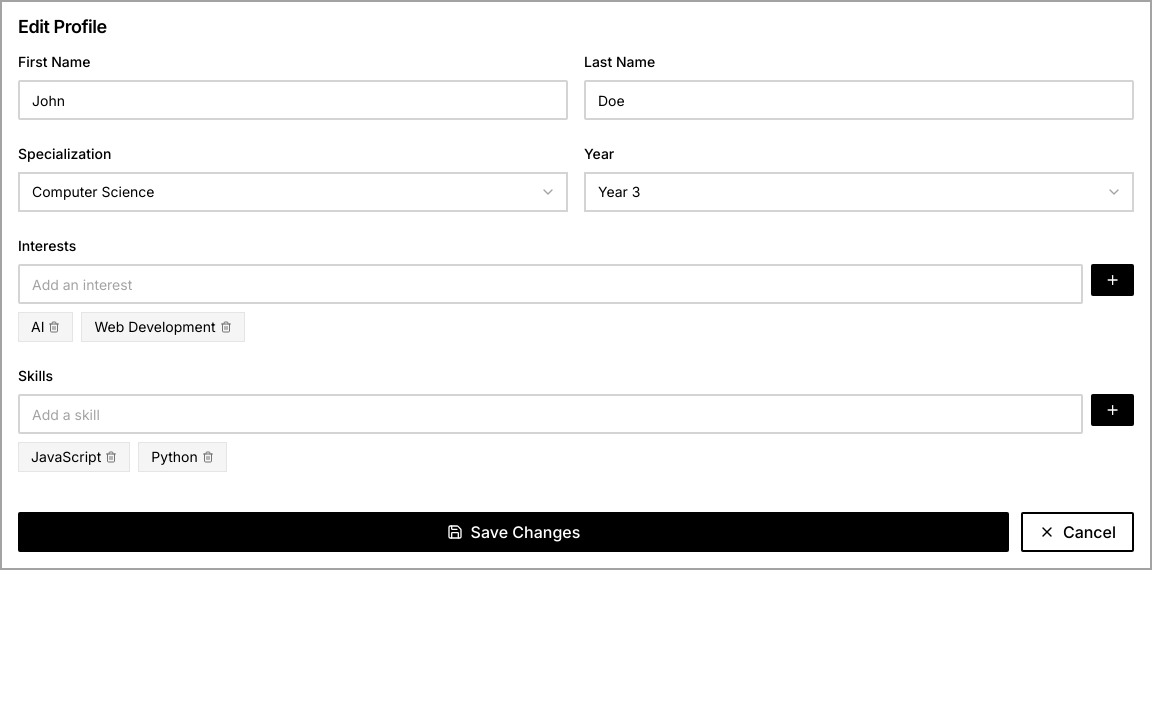
ProfileForm › Student Profile Form › displays validation errors
Clear the field showing "John". click: (293, 100)
box: [18,80,568,120]
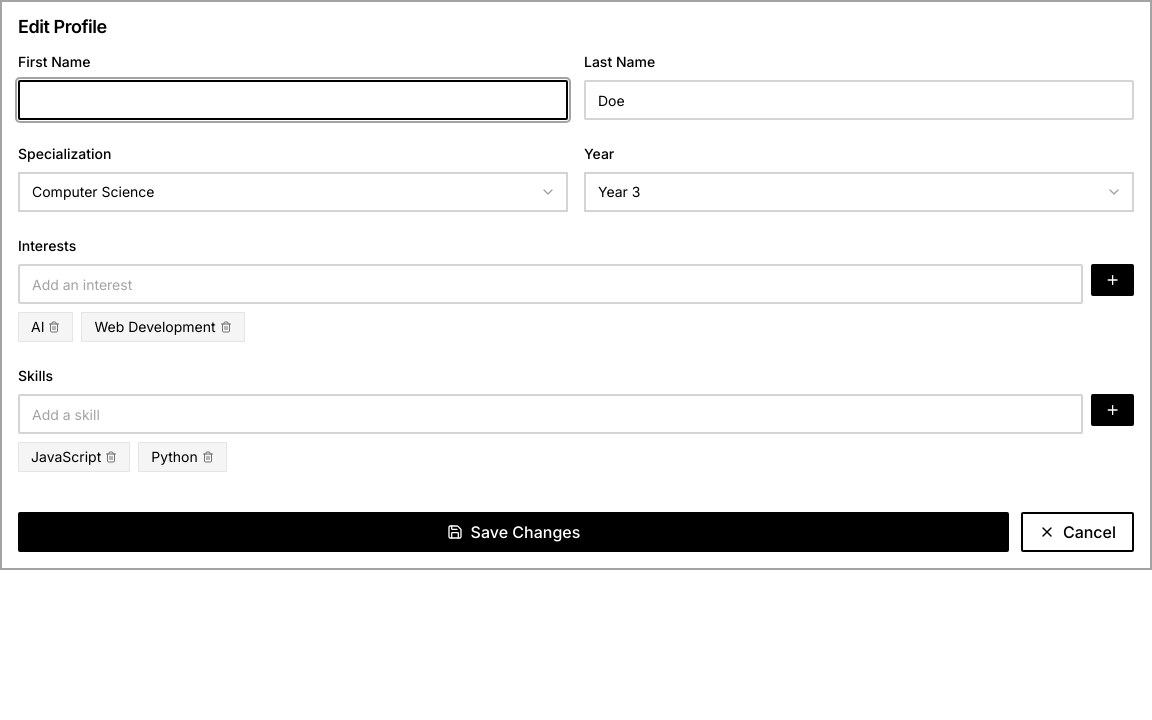
Click the button "Save Changes". click: (513, 532)
box: [18,512,1009,552]
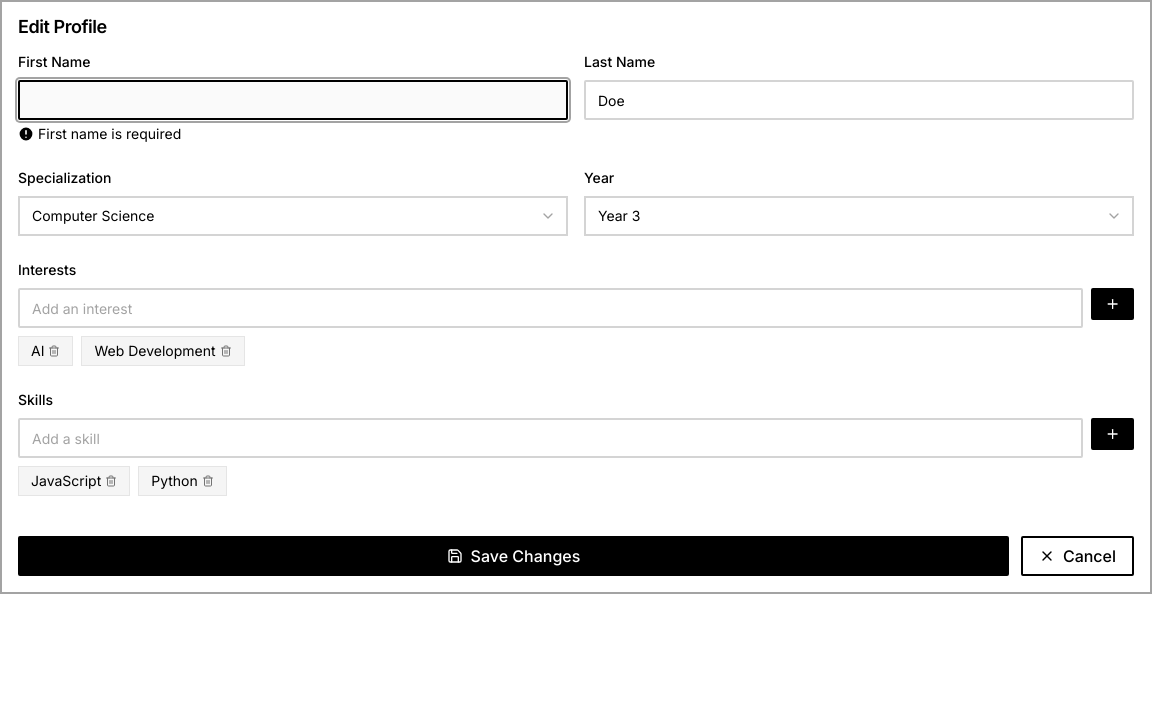
Expected: the text "First name is required" is shown, [18,125,181,142]
